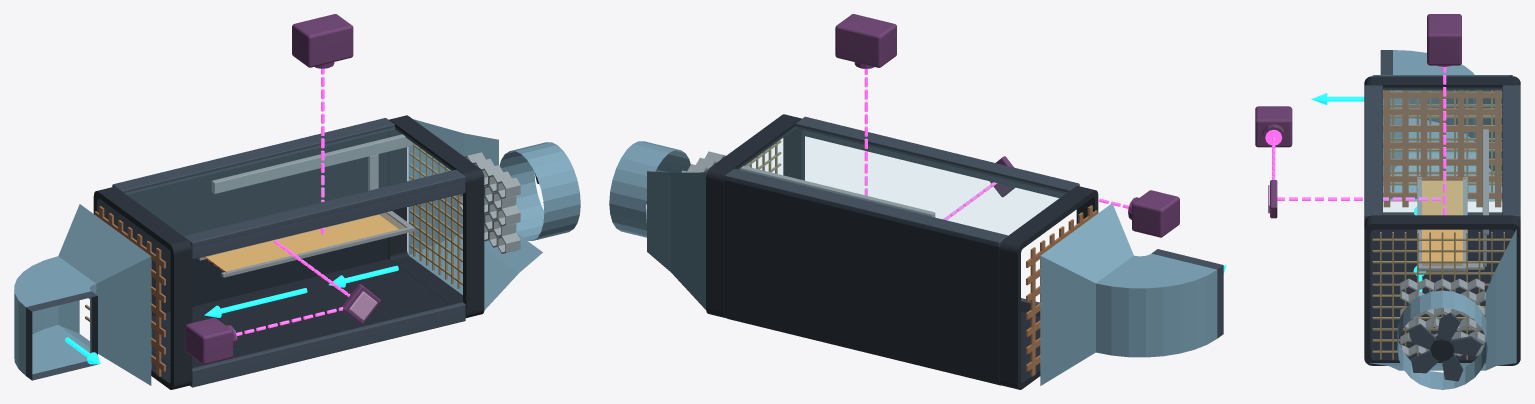
File: bass_ii_insert.glb
The picture shows the model from 3 angles, left to right: view 1: azimuth 30°, elevation 25°; view 2: azimuth 150°, elevation 25°; view 3: azimuth 270°, elevation 25°; orthographic projection. The views are drawn at different scales.
Parts seen in each view (by area): view 1: Duct rear wall, Top viewing pane, Duct floor, Outlet reducer, Upstream duct end collar, Inlet transition | sectioned for visibility, 90 degree discharge elbow | schematic, Fan inlet shroud, Front window rim | lower, Downstream duct end collar, Top window rim | front, Top window rim | rear (+12 smaller); view 2: Duct rear wall, Top viewing pane, 90 degree discharge elbow | schematic, Outlet reducer, Inlet transition | sectioned for visibility, Downstream duct end collar, Upstream duct end collar, Top window rim | front, Top window rim | rear, Fan inlet shroud, Top still-camera marker, Outlet heat rejection | perforated plate symbol (+5 smaller); view 3: Top viewing pane, Outlet heat rejection | perforated plate symbol, Duct floor, Upstream duct end collar, Duct inlet screen, Inlet transition | sectioned for visibility, Fan inlet shroud, Honeycomb flow straightener, Fan rotor | static, 90 degree discharge elbow | schematic, Top window rim | front, Top window rim | rear (+13 smaller).
Boxes of the visible parts, x1,y1,x2,y2 form: Duct rear wall: (115,131,388,316); Top viewing pane: (125,127,451,235); Duct floor: (151,259,450,367); Outlet reducer: (58,204,151,385); Upstream duct end collar: (388,115,484,317); Inlet transition | sectioned for visibility: (408,119,542,310); 90 degree discharge elbow | schematic: (14,256,96,375); Fan inlet shroud: (499,142,580,240); Front window rim | lower: (190,302,465,387); Downstream duct end collar: (93,186,192,389); Top window rim | front: (183,169,465,247); Top window rim | rear: (112,118,394,194); Duct rear wall: (724,180,999,382); Top viewing pane: (739,126,1066,234); 90 degree discharge elbow | schematic: (1096,253,1217,357); Outlet reducer: (1040,203,1133,385); Inlet transition | sectioned for visibility: (647,171,706,309); Downstream duct end collar: (999,186,1098,389); Upstream duct end collar: (706,114,804,318); Top window rim | front: (795,116,1079,194); Top window rim | rear: (724,168,1007,246); Fan inlet shroud: (609,141,690,237); Top still-camera marker: (835,14,896,69); Outlet heat rejection | perforated plate symbol: (1026,205,1097,376); Top viewing pane: (1383,88,1501,214); Outlet heat rejection | perforated plate symbol: (1383,90,1502,207); Duct floor: (1370,229,1514,350); Upstream duct end collar: (1364,215,1520,365); Duct inlet screen: (1372,232,1511,359); Inlet transition | sectioned for visibility: (1369,229,1516,370); Fan inlet shroud: (1397,290,1487,389); Honeycomb flow straightener: (1400,278,1485,356); Fan rotor | static: (1408,312,1481,381); 90 degree discharge elbow | schematic: (1393,50,1476,153); Top window rim | front: (1364,85,1382,219); Top window rim | rear: (1502,85,1520,219).
Size of the model in its own units: 0.307 by 0.1525 by 0.129.
